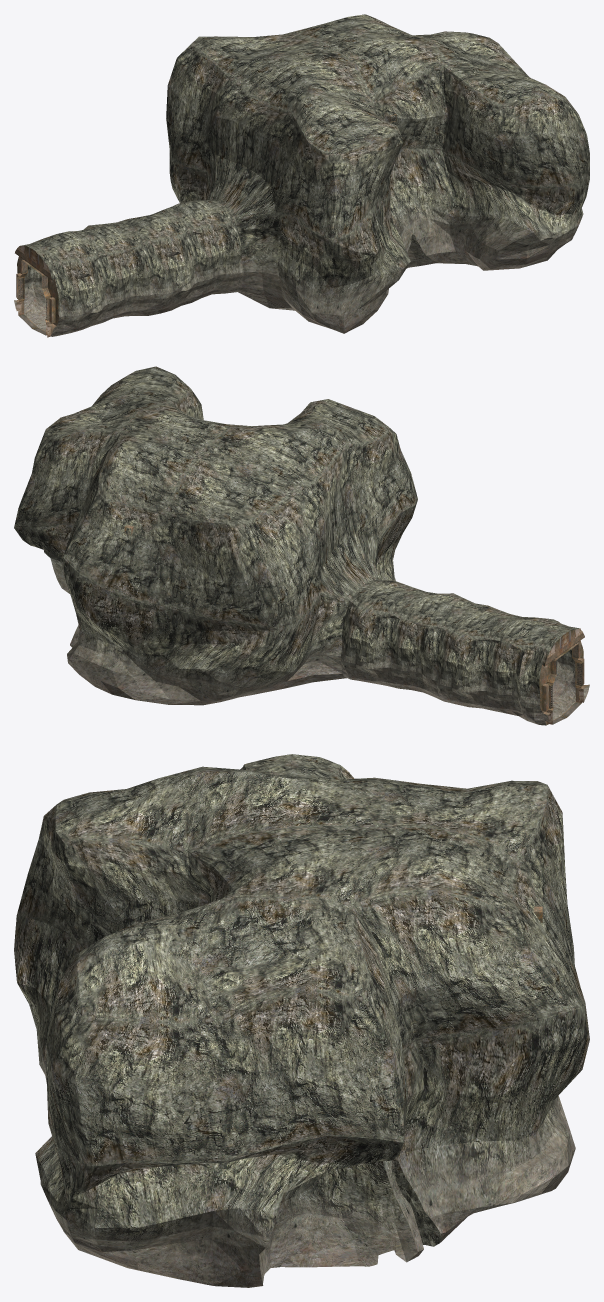
File: poi_all_bunker_allum_mine_r41_largeroom41_mesh_r41.fbx
The picture shows the model from 3 angles, top to bottom: view 1: azimuth 30°, elevation 25°; view 2: azimuth 150°, elevation 25°; view 3: azimuth 270°, elevation 25°; orthographic projection. The views are drawn at different scales.
Parts seen in each view (by area): view 1: mesh_node; view 2: mesh_node; view 3: mesh_node.
Part boxes in pixels (x1,y1,x2,y2): mesh_node: (14, 14, 589, 337); mesh_node: (14, 366, 589, 725); mesh_node: (14, 754, 589, 1287).
Bounding box in the file's own units: 44.67 × 18.58 × 26.37.
